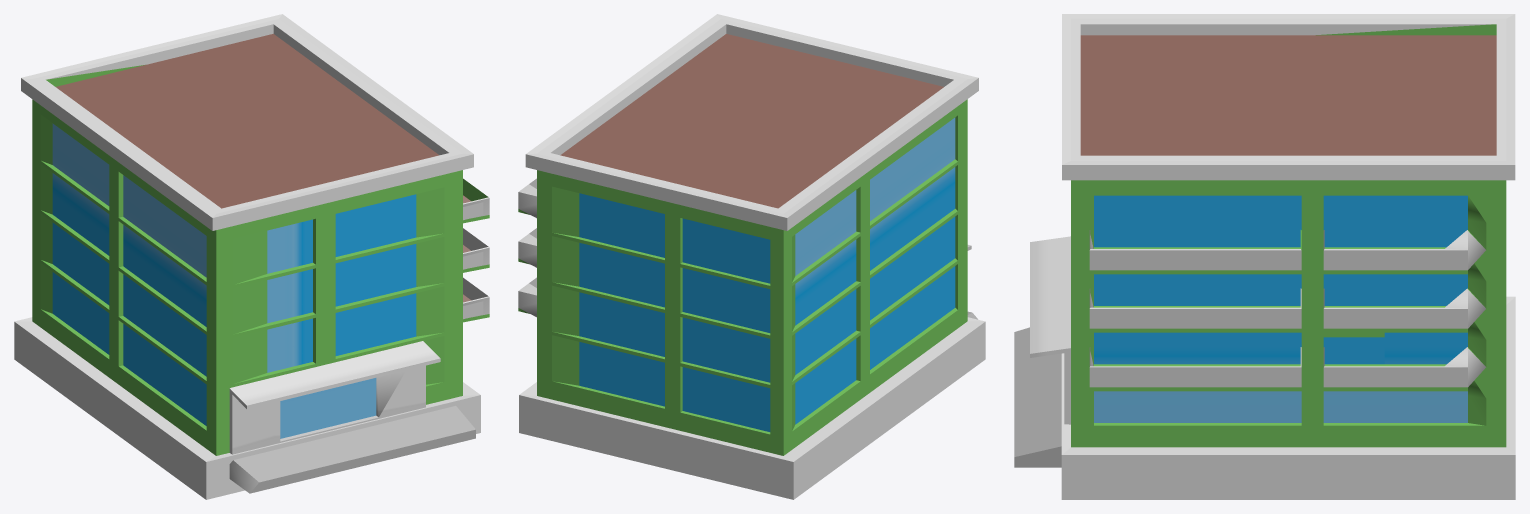
Rendered from GreenBuilding6x8x7.fbx.
3 renders of one model, left to right at view 1: azimuth 30°, elevation 25°; view 2: azimuth 150°, elevation 25°; view 3: azimuth 270°, elevation 25°, orthographic. The views are drawn at different scales.
Visible parts, largest first — view 1: House; view 2: House; view 3: House.
Boxes of the visible parts, left/top/right/bottom form: House: left=14, top=14, right=489, bottom=499; House: left=518, top=14, right=985, bottom=499; House: left=1014, top=14, right=1515, bottom=499.
Bounding box in the file's own units: 7.82 × 7.09 × 9.73.
1 material, 1 textured.
